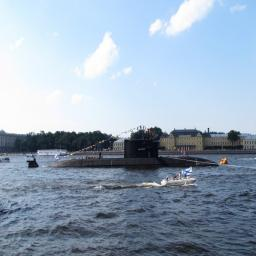submarine: (28, 138, 225, 171)
